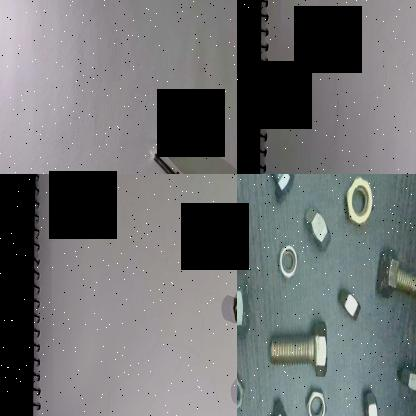Bolts: (266, 318, 337, 379), (373, 247, 416, 321), (237, 274, 259, 338), (256, 174, 297, 200), (154, 122, 186, 154), (247, 395, 294, 416), (151, 151, 179, 174)
NUTS: (339, 174, 374, 230), (302, 200, 330, 252), (336, 280, 360, 328), (273, 237, 299, 278), (393, 359, 416, 402), (303, 383, 327, 416), (358, 385, 380, 416), (237, 368, 244, 412), (230, 295, 237, 329)
